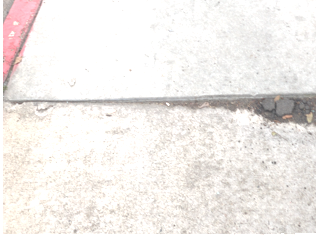Edge: (1, 0, 43, 93)
Uplift: (166, 92, 316, 127)
